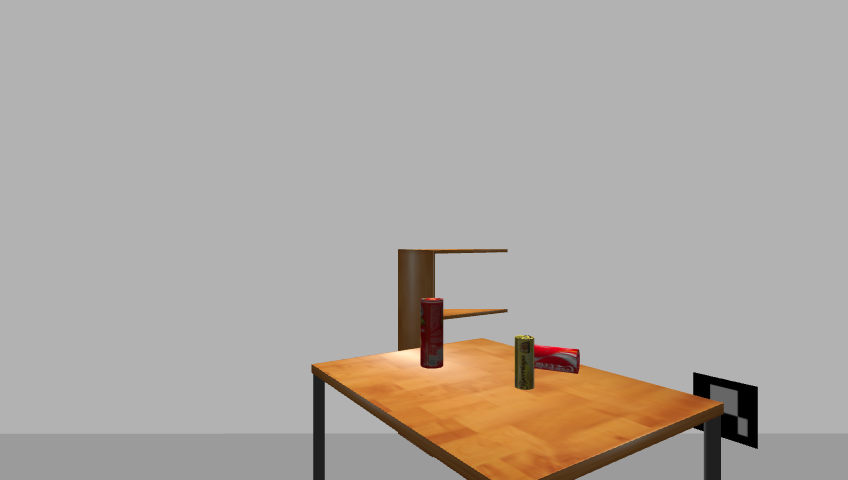aruco marker: (688, 370, 764, 451)
biscuits pack: (514, 335, 535, 391)
bookshelf: (395, 244, 514, 414)
coke can: (532, 346, 583, 376)
dinner table: (304, 339, 731, 479)
pringles can: (419, 298, 445, 370)
